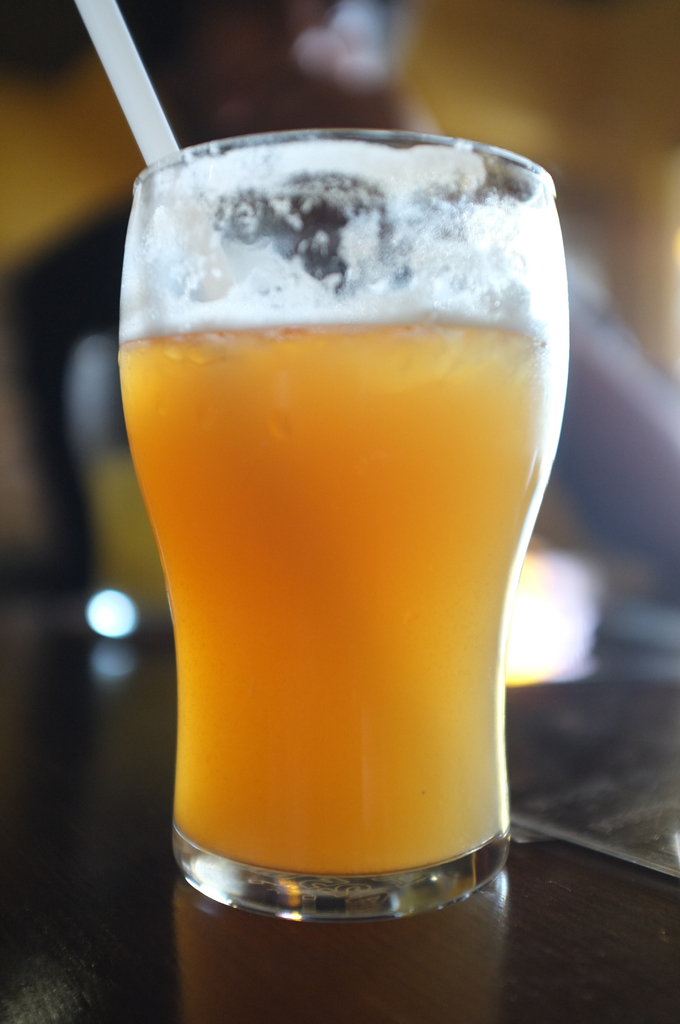Beer: (101, 13, 574, 944)
